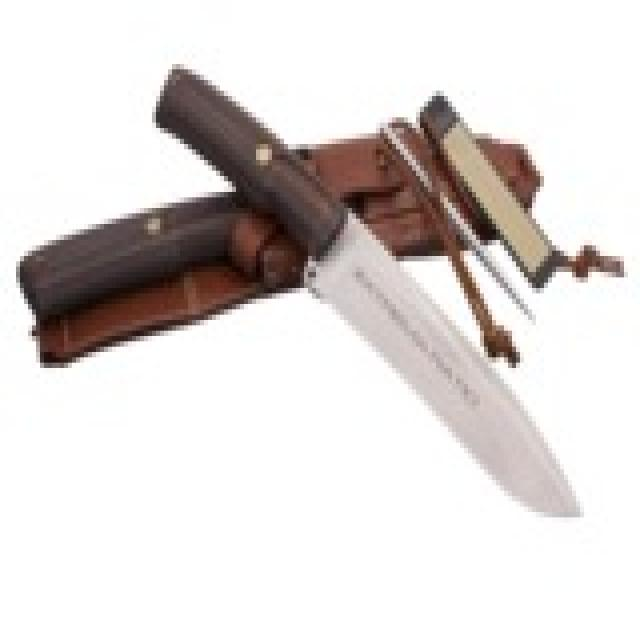Knife: (149, 62, 586, 529)
